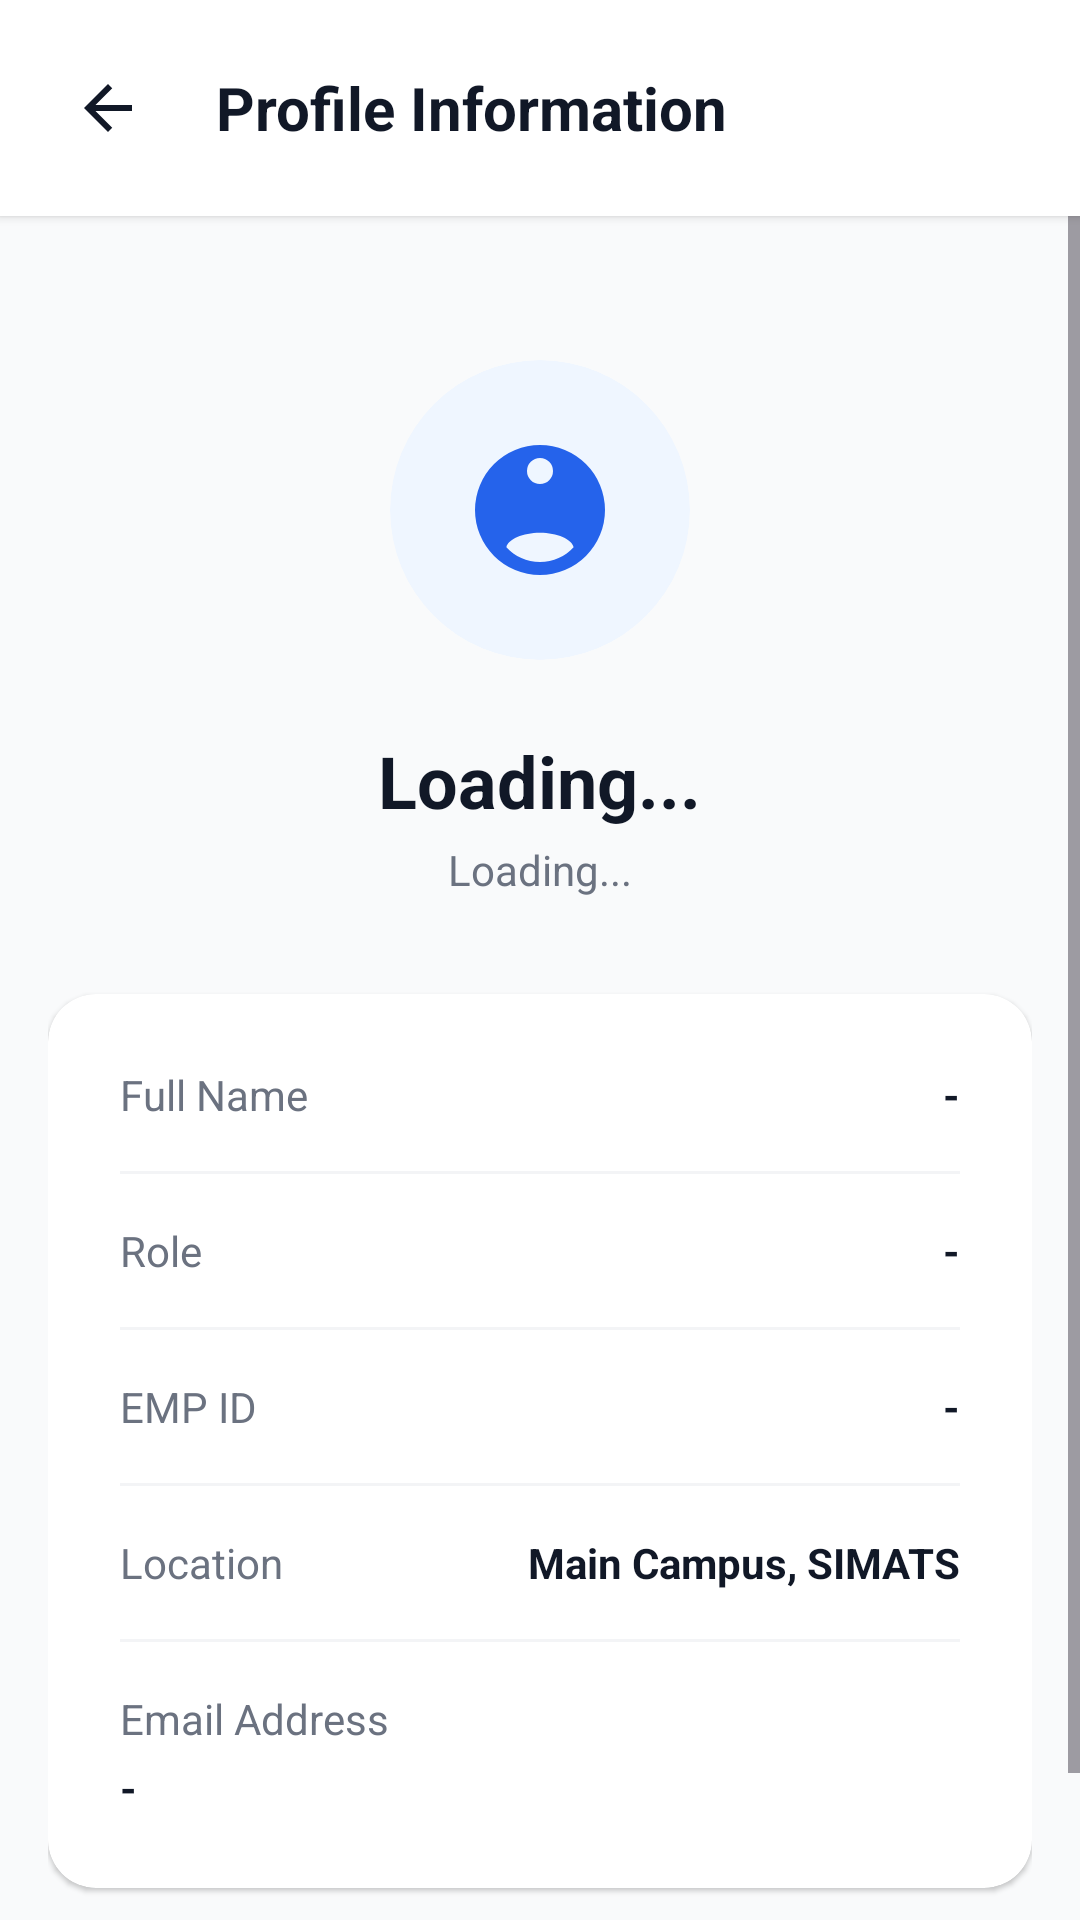

Icon click points for this 1080px×1920px phone screenshot, format (x,y):
Back: (108,108)
user: (540,510)
